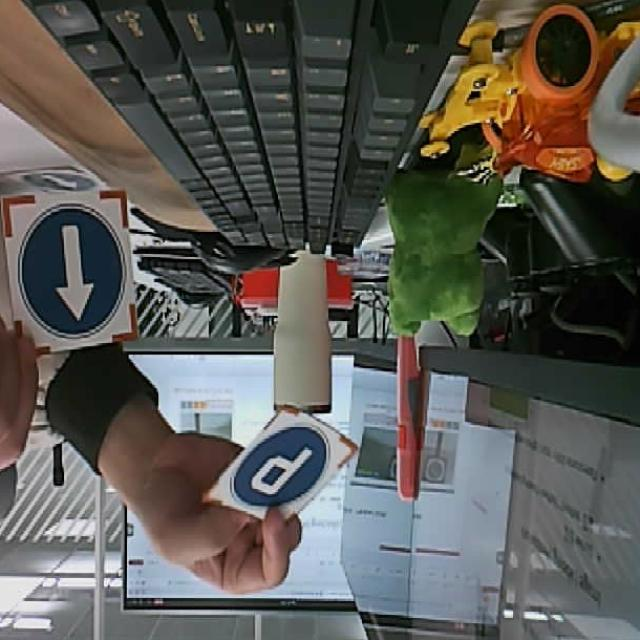parking: (201, 405, 360, 531)
straight: (0, 192, 139, 358)
